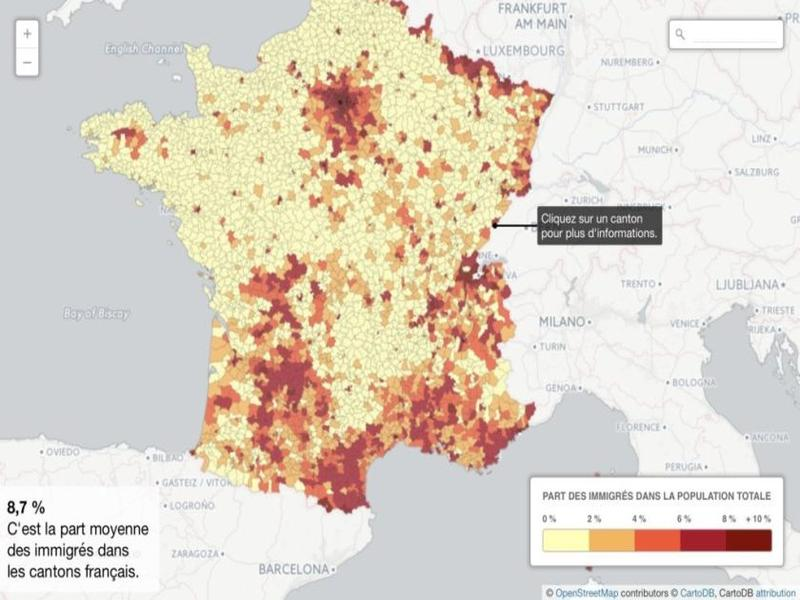legend: (528, 474, 785, 568)
